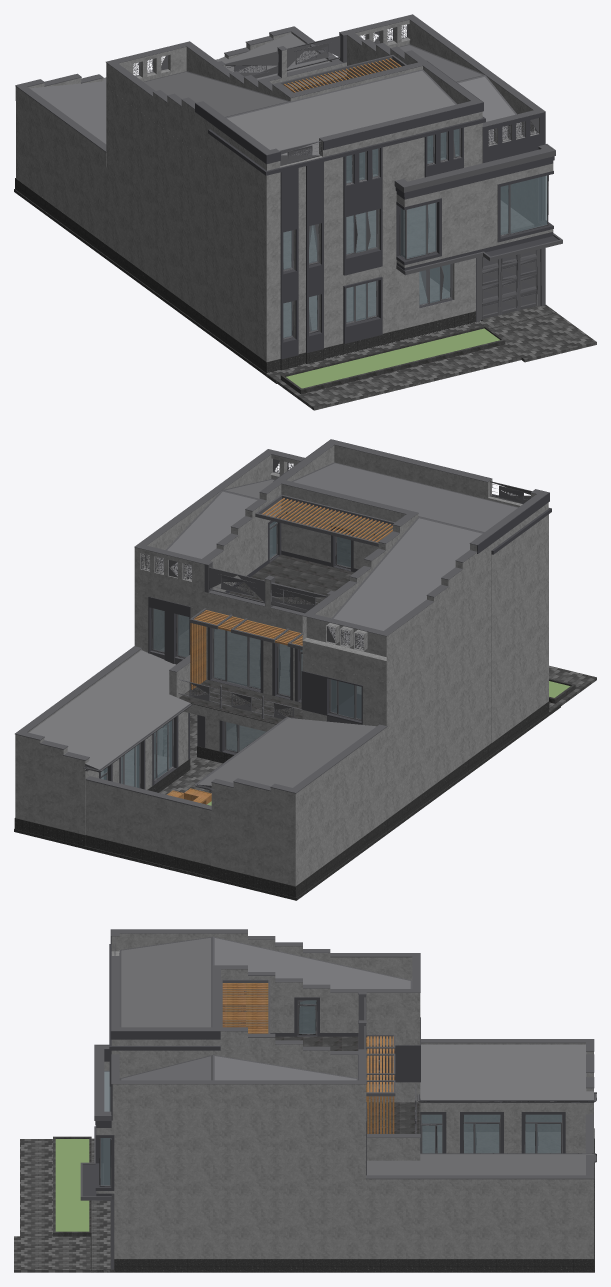
Rendered from mosarq-casa-real.glb.
The picture shows the model from 3 angles, top to bottom: view 1: azimuth 30°, elevation 25°; view 2: azimuth 150°, elevation 25°; view 3: azimuth 270°, elevation 25°; orthographic projection. The views are drawn at different scales.
Visible parts, largest first — view 1: House.043, House.089, House.025, House.044, House.001, House.119, House.156, House.105, House.102, House.018, House.033, House.069 (+45 smaller); view 2: House.043, House.089, House.044, House.025, House.065, House.001, House.045, House.119, House.013, House.064, House.102, House.105 (+35 smaller); view 3: House.043, House.044, House.089, House.064, House.119, House.045, House.107, House.102, House.001, House.065, House.156, House.046 (+29 smaller).
Part boxes in pixels (bbox=[...]): House.043: bbox=[16, 110, 536, 353]; House.089: bbox=[144, 45, 521, 155]; House.025: bbox=[210, 135, 280, 361]; House.044: bbox=[106, 108, 538, 285]; House.001: bbox=[283, 129, 547, 337]; House.119: bbox=[106, 14, 552, 186]; House.156: bbox=[266, 305, 596, 383]; House.105: bbox=[210, 66, 482, 190]; House.102: bbox=[15, 178, 475, 372]; House.018: bbox=[277, 344, 521, 410]; House.033: bbox=[476, 248, 545, 322]; House.069: bbox=[439, 176, 500, 259]; House.043: bbox=[15, 638, 491, 886]; House.089: bbox=[158, 463, 517, 646]; House.044: bbox=[134, 593, 491, 750]; House.025: bbox=[491, 514, 548, 742]; House.065: bbox=[29, 650, 190, 769]; House.001: bbox=[101, 521, 361, 787]; House.045: bbox=[134, 533, 491, 682]; House.119: bbox=[134, 439, 548, 672]; House.013: bbox=[85, 780, 211, 865]; House.064: bbox=[198, 718, 376, 787]; House.102: bbox=[14, 701, 549, 897]; House.105: bbox=[286, 445, 548, 550]; House.043: bbox=[114, 1103, 593, 1258]; House.044: bbox=[111, 1036, 420, 1193]; House.089: bbox=[121, 938, 410, 1080]; House.064: bbox=[420, 1044, 593, 1099]; House.119: bbox=[96, 929, 420, 1137]; House.045: bbox=[111, 1016, 420, 1127]; House.107: bbox=[112, 1084, 366, 1107]; House.102: bbox=[114, 1128, 594, 1269]; House.001: bbox=[100, 1000, 561, 1185]; House.065: bbox=[367, 1154, 593, 1175]; House.156: bbox=[14, 1139, 114, 1272]; House.046: bbox=[221, 969, 412, 1016].
Size of the model in its own units: 16.22 by 12.26 by 30.22.
Materials: 12 (5 with a texture image).
